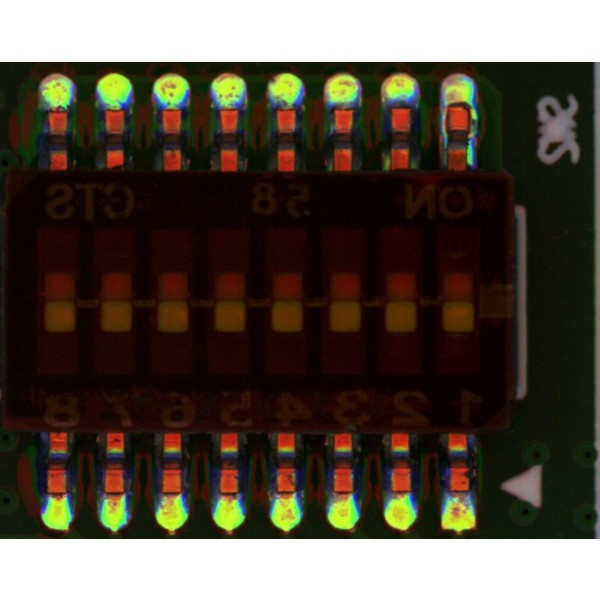Bad_podu: (468, 106, 478, 170), (439, 108, 448, 169), (333, 482, 353, 505), (106, 487, 124, 510), (277, 483, 295, 506), (164, 488, 182, 508), (220, 486, 237, 505), (47, 487, 67, 503)
